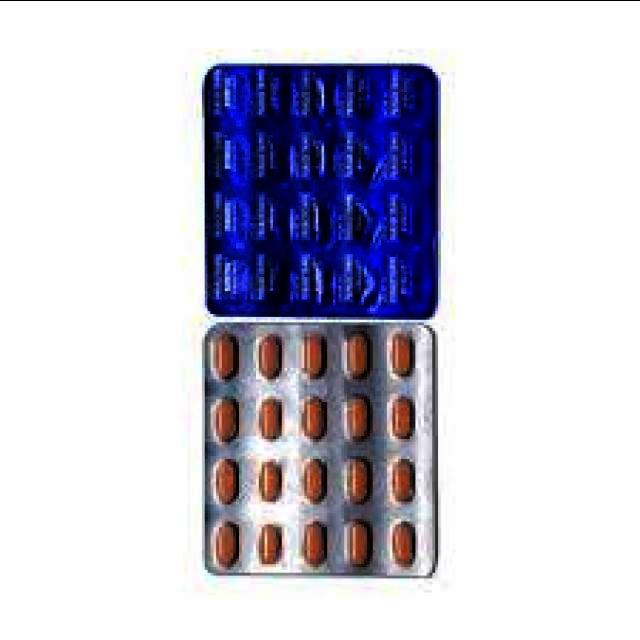authentic: (193, 319, 440, 588), (195, 59, 444, 319)
